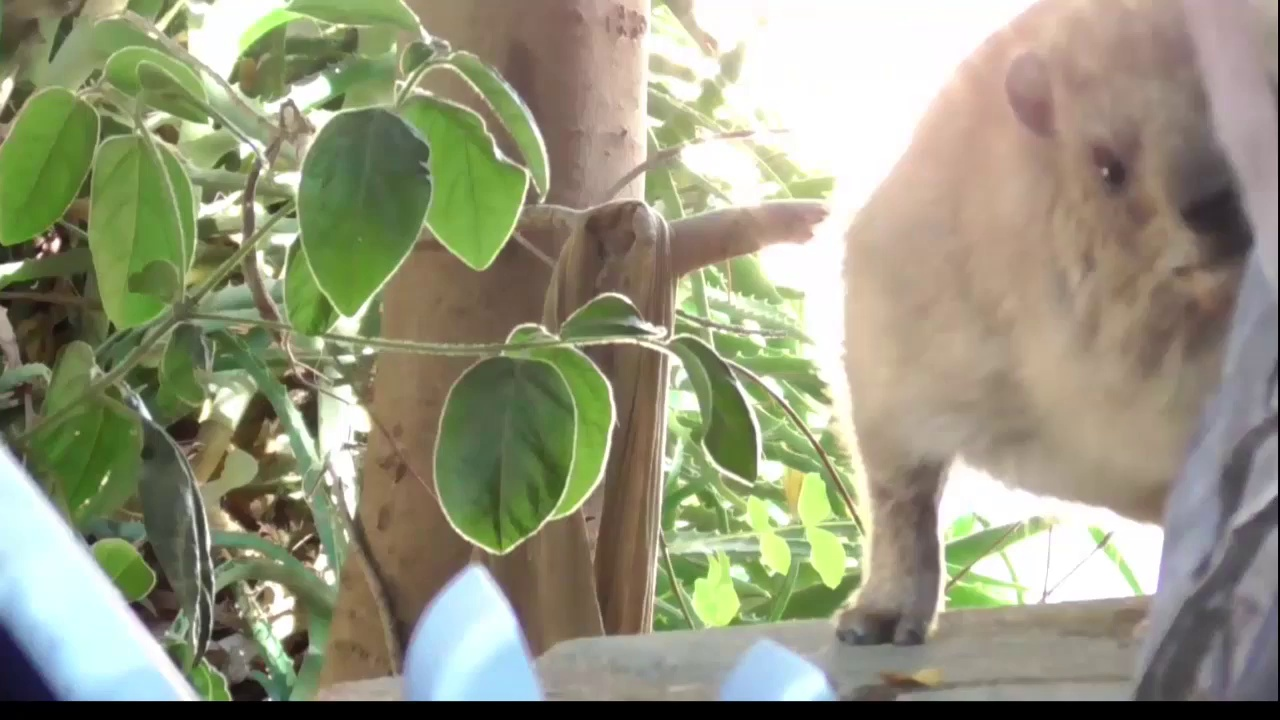Rock Hyrex: (826, 1, 1256, 651)
